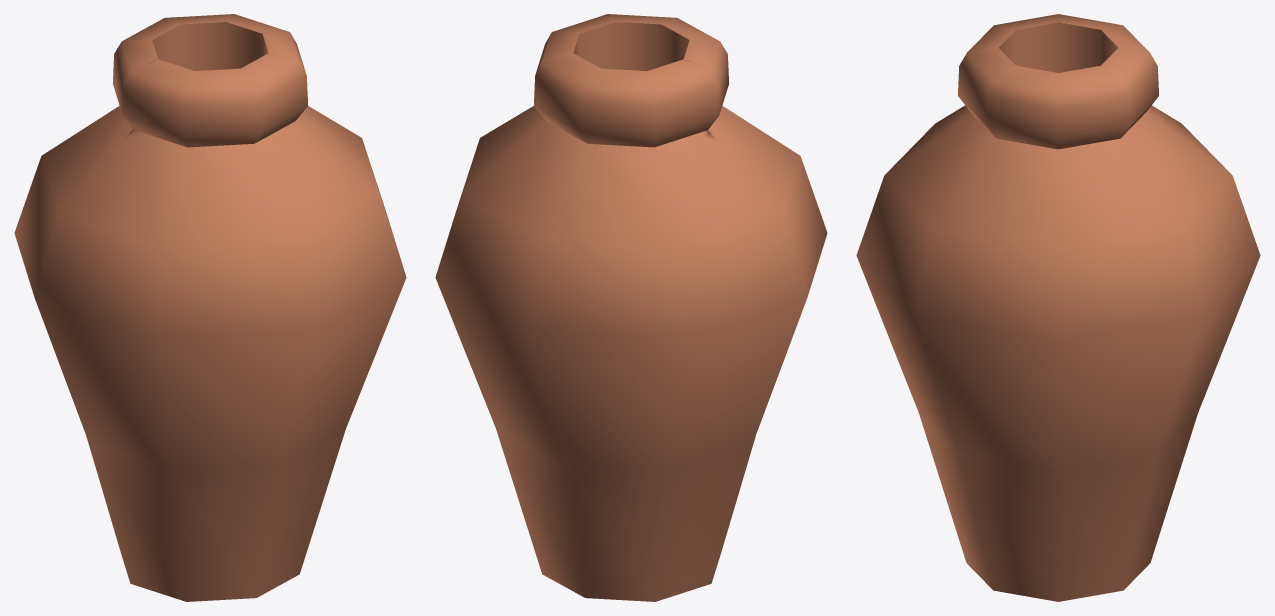
File: Jar_decoration.fbx
The picture shows the model from 3 angles, left to right: view 1: azimuth 30°, elevation 25°; view 2: azimuth 150°, elevation 25°; view 3: azimuth 270°, elevation 25°; orthographic projection.
Parts seen in each view (by area): view 1: Jar_decoration; view 2: Jar_decoration; view 3: Jar_decoration.
Boxes of the visible parts, <box> form: Jar_decoration: <box>14,14,406,601</box>; Jar_decoration: <box>435,14,827,601</box>; Jar_decoration: <box>856,14,1260,601</box>.
Bounding box in the file's own units: 108 × 152 × 108.
